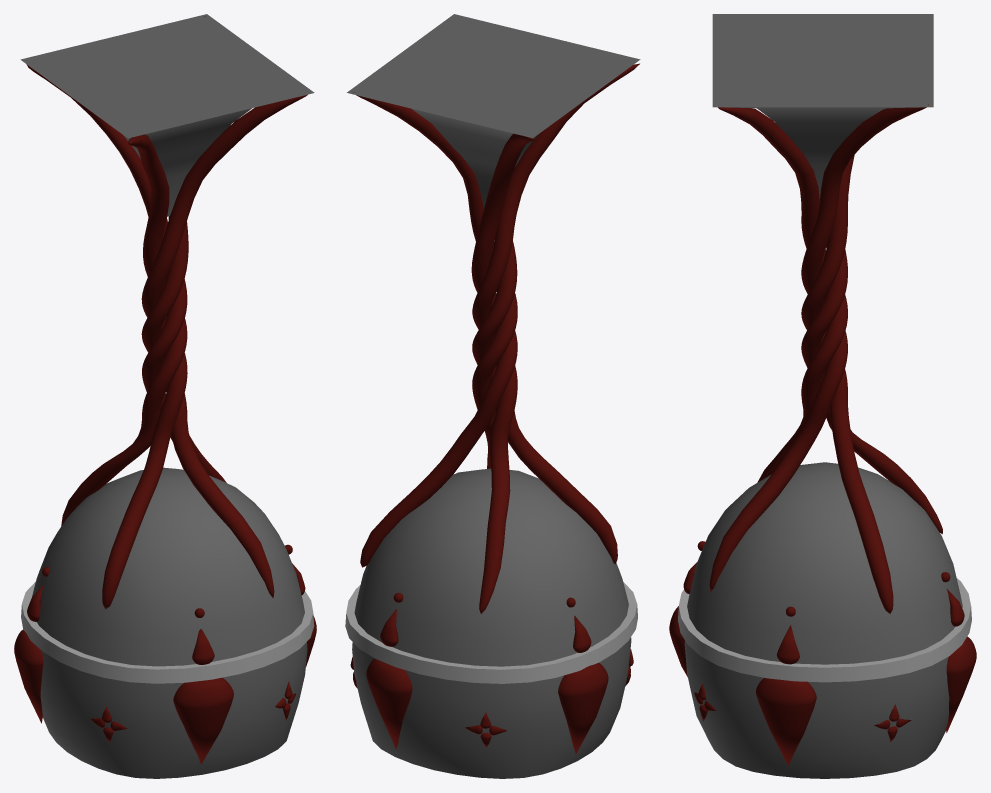
Rendered from Goblet.fbx.
3 renders of one model, left to right at view 1: azimuth 30°, elevation 25°; view 2: azimuth 150°, elevation 25°; view 3: azimuth 270°, elevation 25°, orthographic. The views are drawn at different scales.
Parts seen in each view (by area): view 1: pCube9; view 2: pCube9; view 3: pCube9.
Boxes of the visible parts, bbox=[...] form: pCube9: bbox=[14, 14, 316, 778]; pCube9: bbox=[345, 14, 640, 778]; pCube9: bbox=[669, 14, 976, 778].
Bounding box in the file's own units: 1.94 × 4.67 × 1.95.
